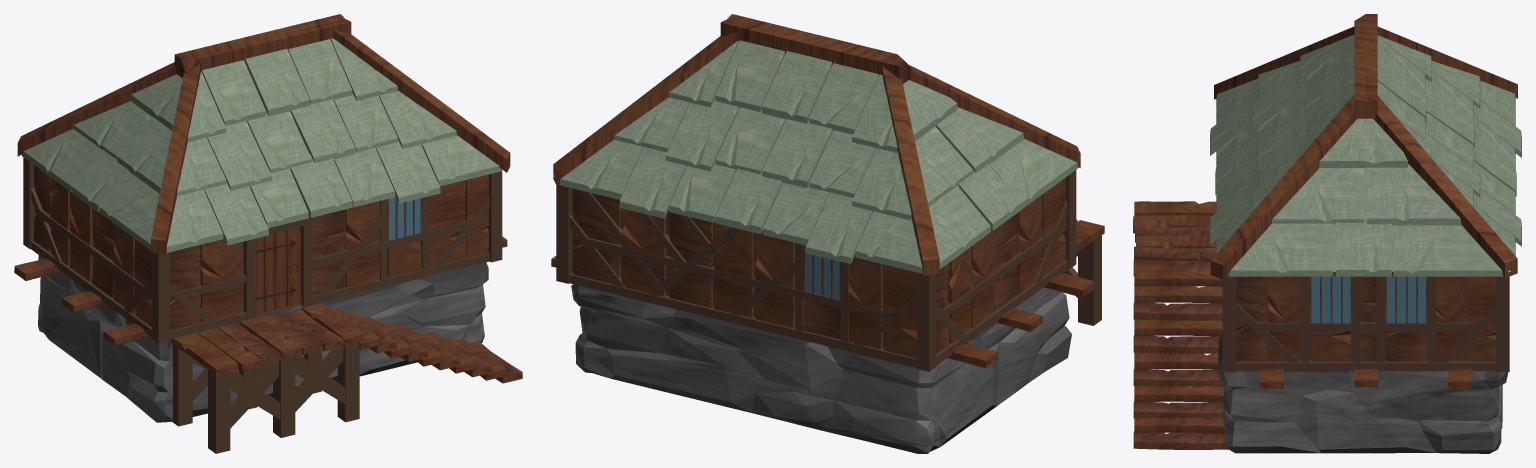
File: house-draco.glb
3 views of the same model, side by side, from view 1: azimuth 30°, elevation 25°; view 2: azimuth 150°, elevation 25°; view 3: azimuth 270°, elevation 25° (orthographic). The views are drawn at different scales.
Visible parts, largest first — view 1: house_0; view 2: house_0; view 3: house_0.
Boxes of the visible parts, left/top/right/bottom form: house_0: left=14, top=14, right=522, bottom=453; house_0: left=551, top=14, right=1104, bottom=453; house_0: left=1133, top=14, right=1521, bottom=453.
Bounding box in the file's own units: 5.76 × 4.15 × 4.62.
6 materials, 3 textured.
